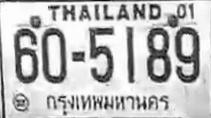0: (41, 27, 66, 83)
1: (126, 25, 135, 83)
5: (88, 26, 114, 82)
6: (13, 27, 38, 83)
8: (146, 26, 170, 82)
9: (174, 26, 199, 82)
BKK: (43, 90, 174, 117)
